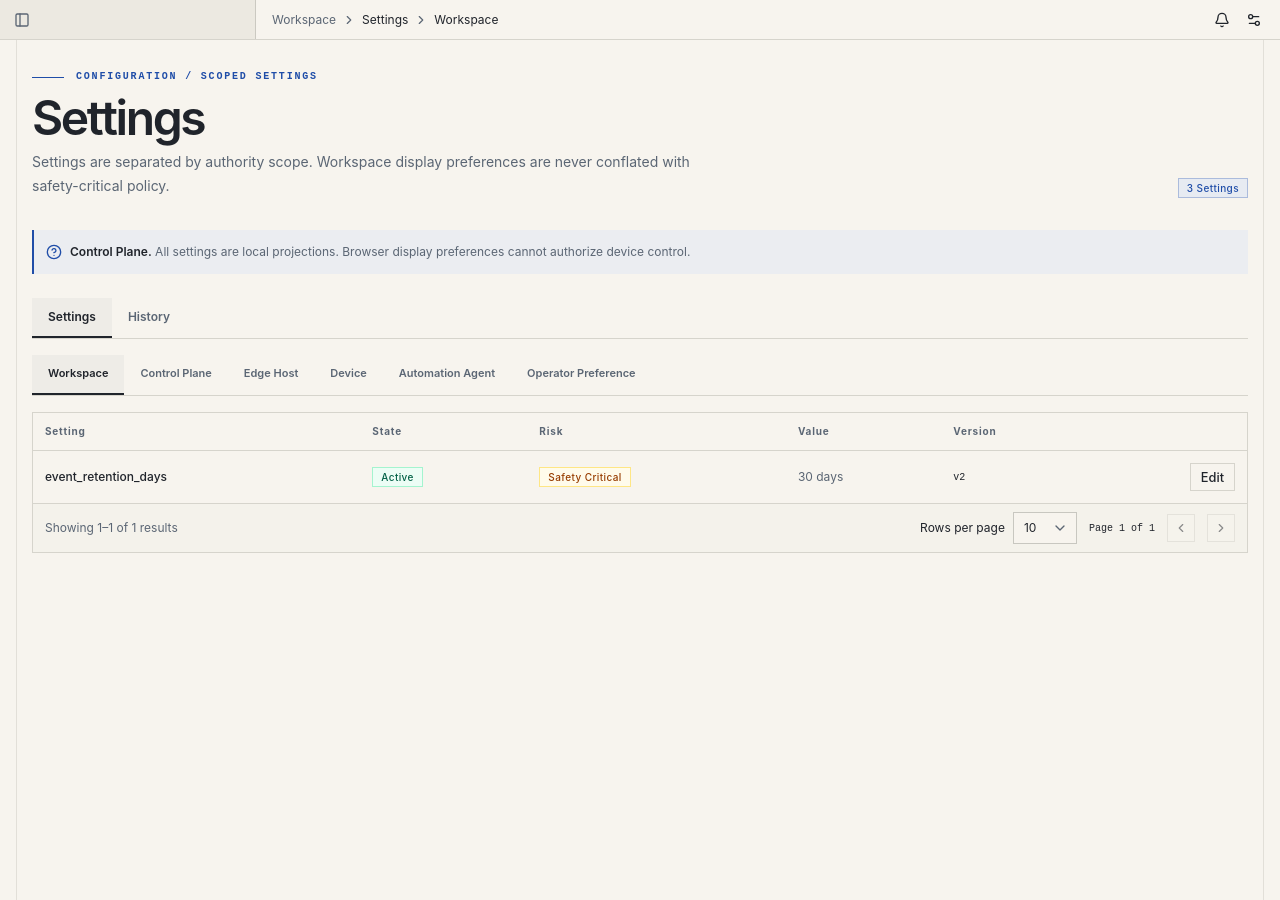
Test: Drift command center › keeps invalid setting JSON inline and focuses its error summary
Click the button "Edit" at (1212, 477), box [1190,463,1235,491]
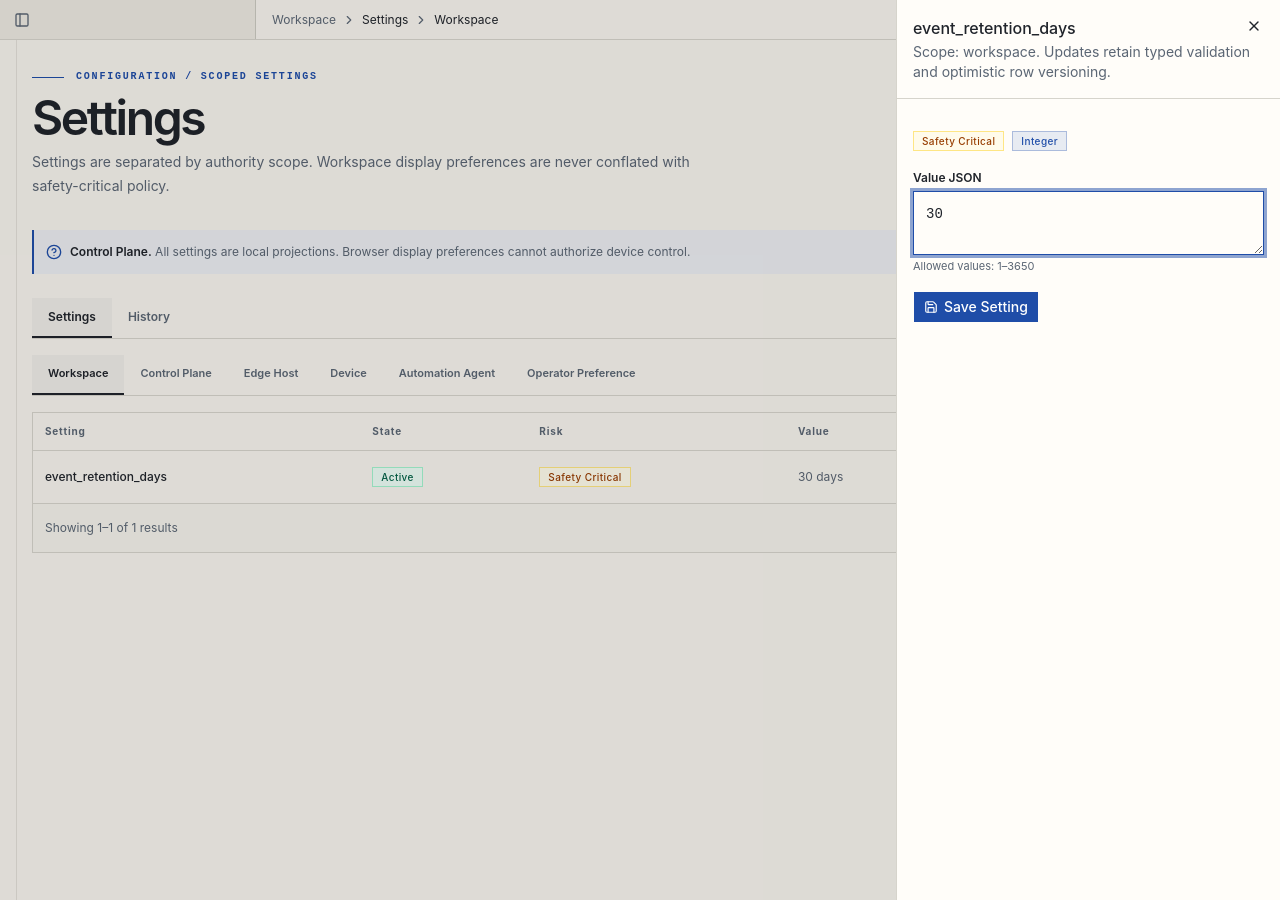
Replace the text in the text box labelled "Value JSON" with "not json" at (1088, 223), box [913,191,1264,255]
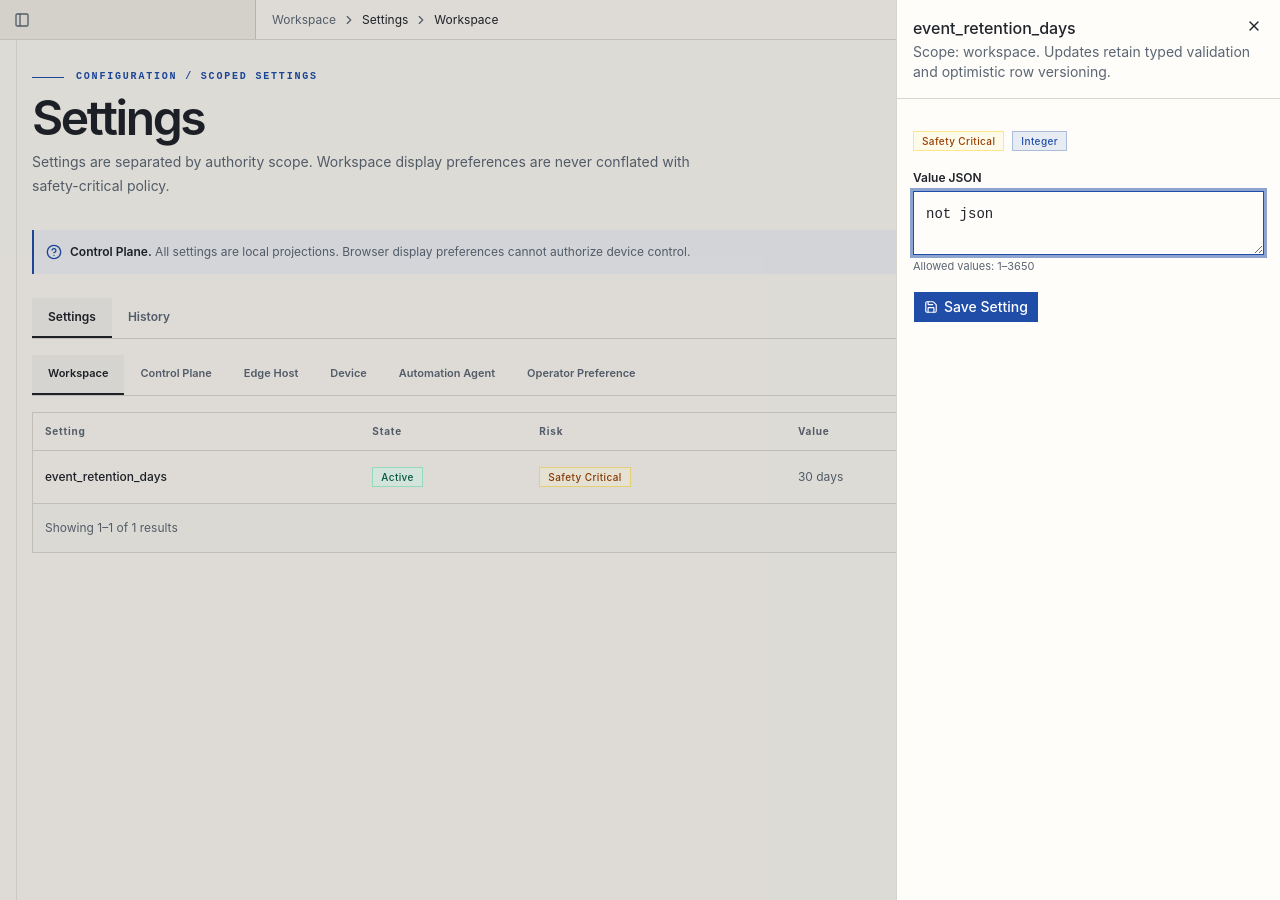
Click the button "Save Setting" at (976, 307), box [913,291,1039,323]
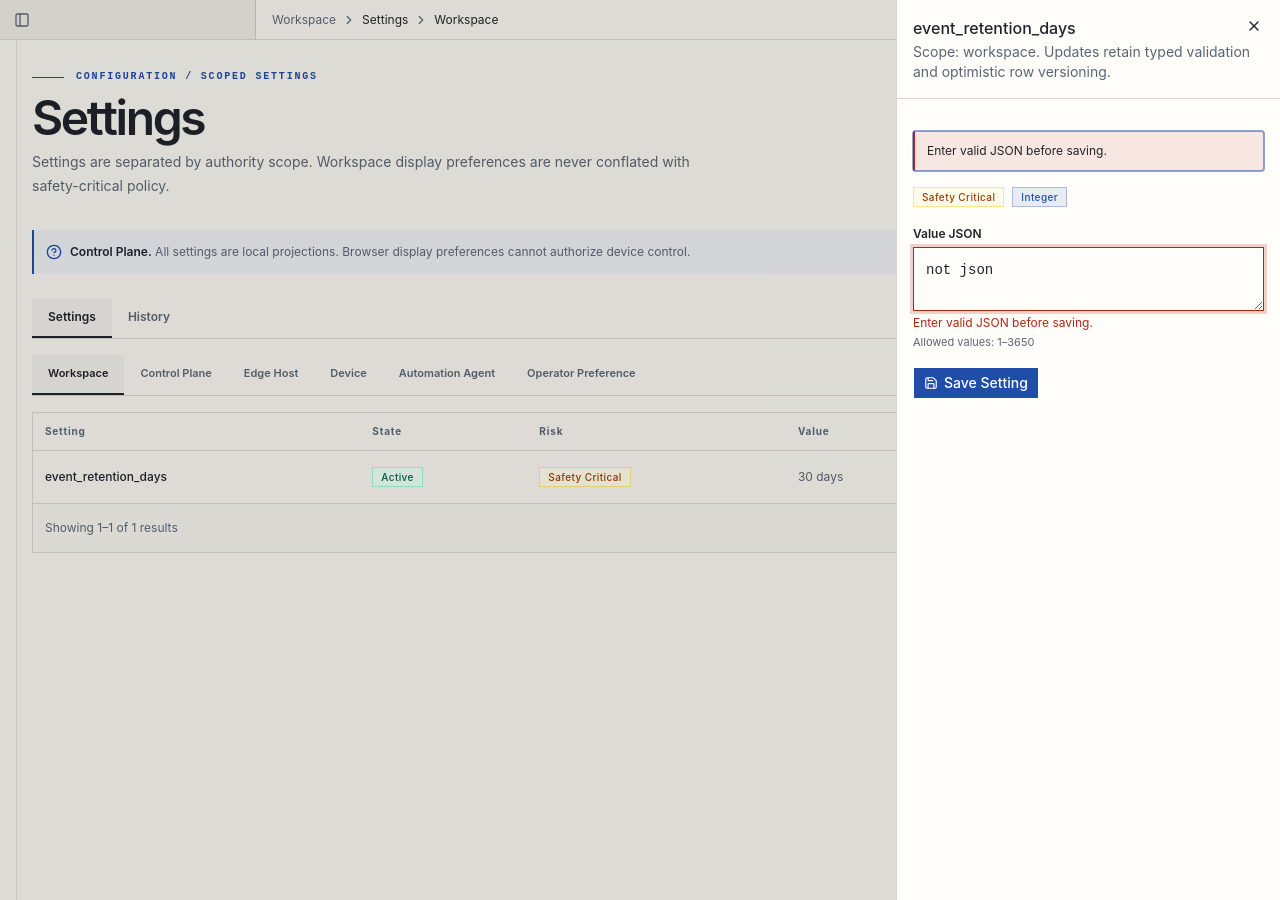
Now the message shows "Enter valid JSON", box [927,143,1107,158]
